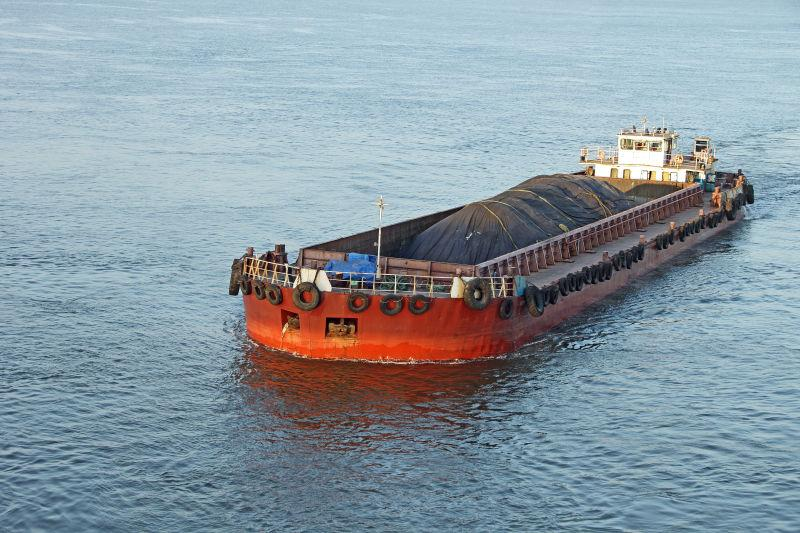boat: (226, 118, 758, 368)
